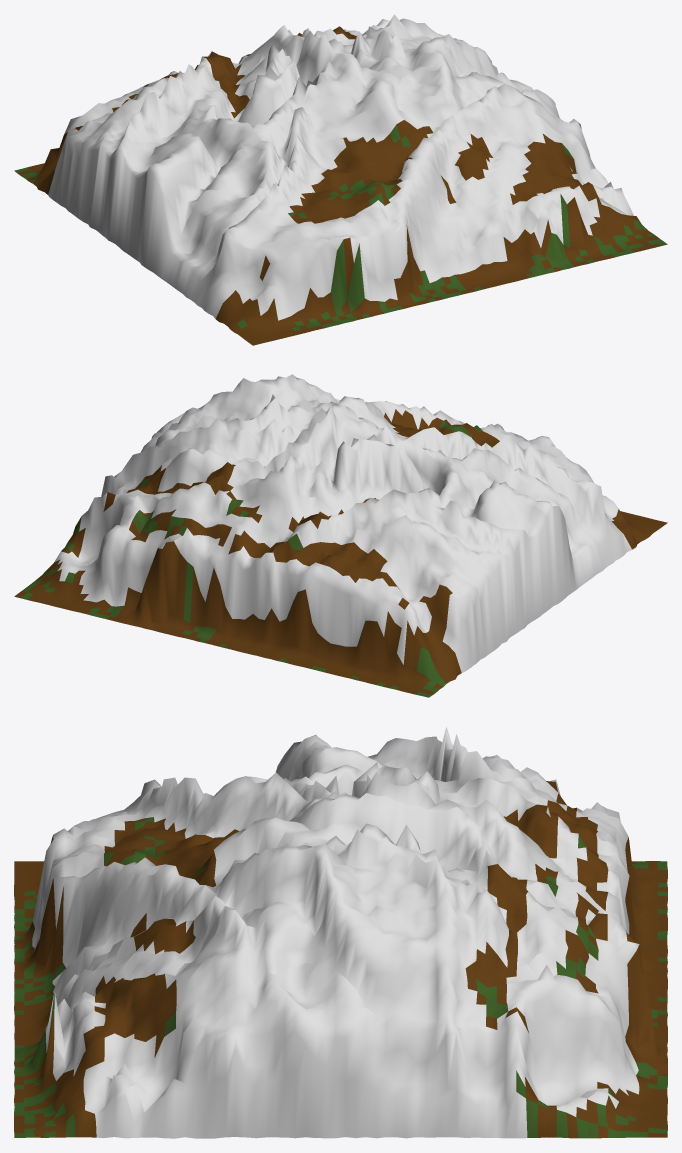
File: S0.mountain.4.glb
3 views of the same model, one above another, from view 1: azimuth 30°, elevation 25°; view 2: azimuth 150°, elevation 25°; view 3: azimuth 270°, elevation 25° (orthographic). The views are drawn at different scales.
Parts seen in each view (by area): view 1: Landscape.001; view 2: Landscape.001; view 3: Landscape.001.
Part boxes in pixels (bbox=[...]): Landscape.001: bbox=[14, 14, 667, 345]; Landscape.001: bbox=[14, 374, 667, 697]; Landscape.001: bbox=[14, 726, 667, 1138].
Bounding box in the file's own units: 302 × 114 × 300.
